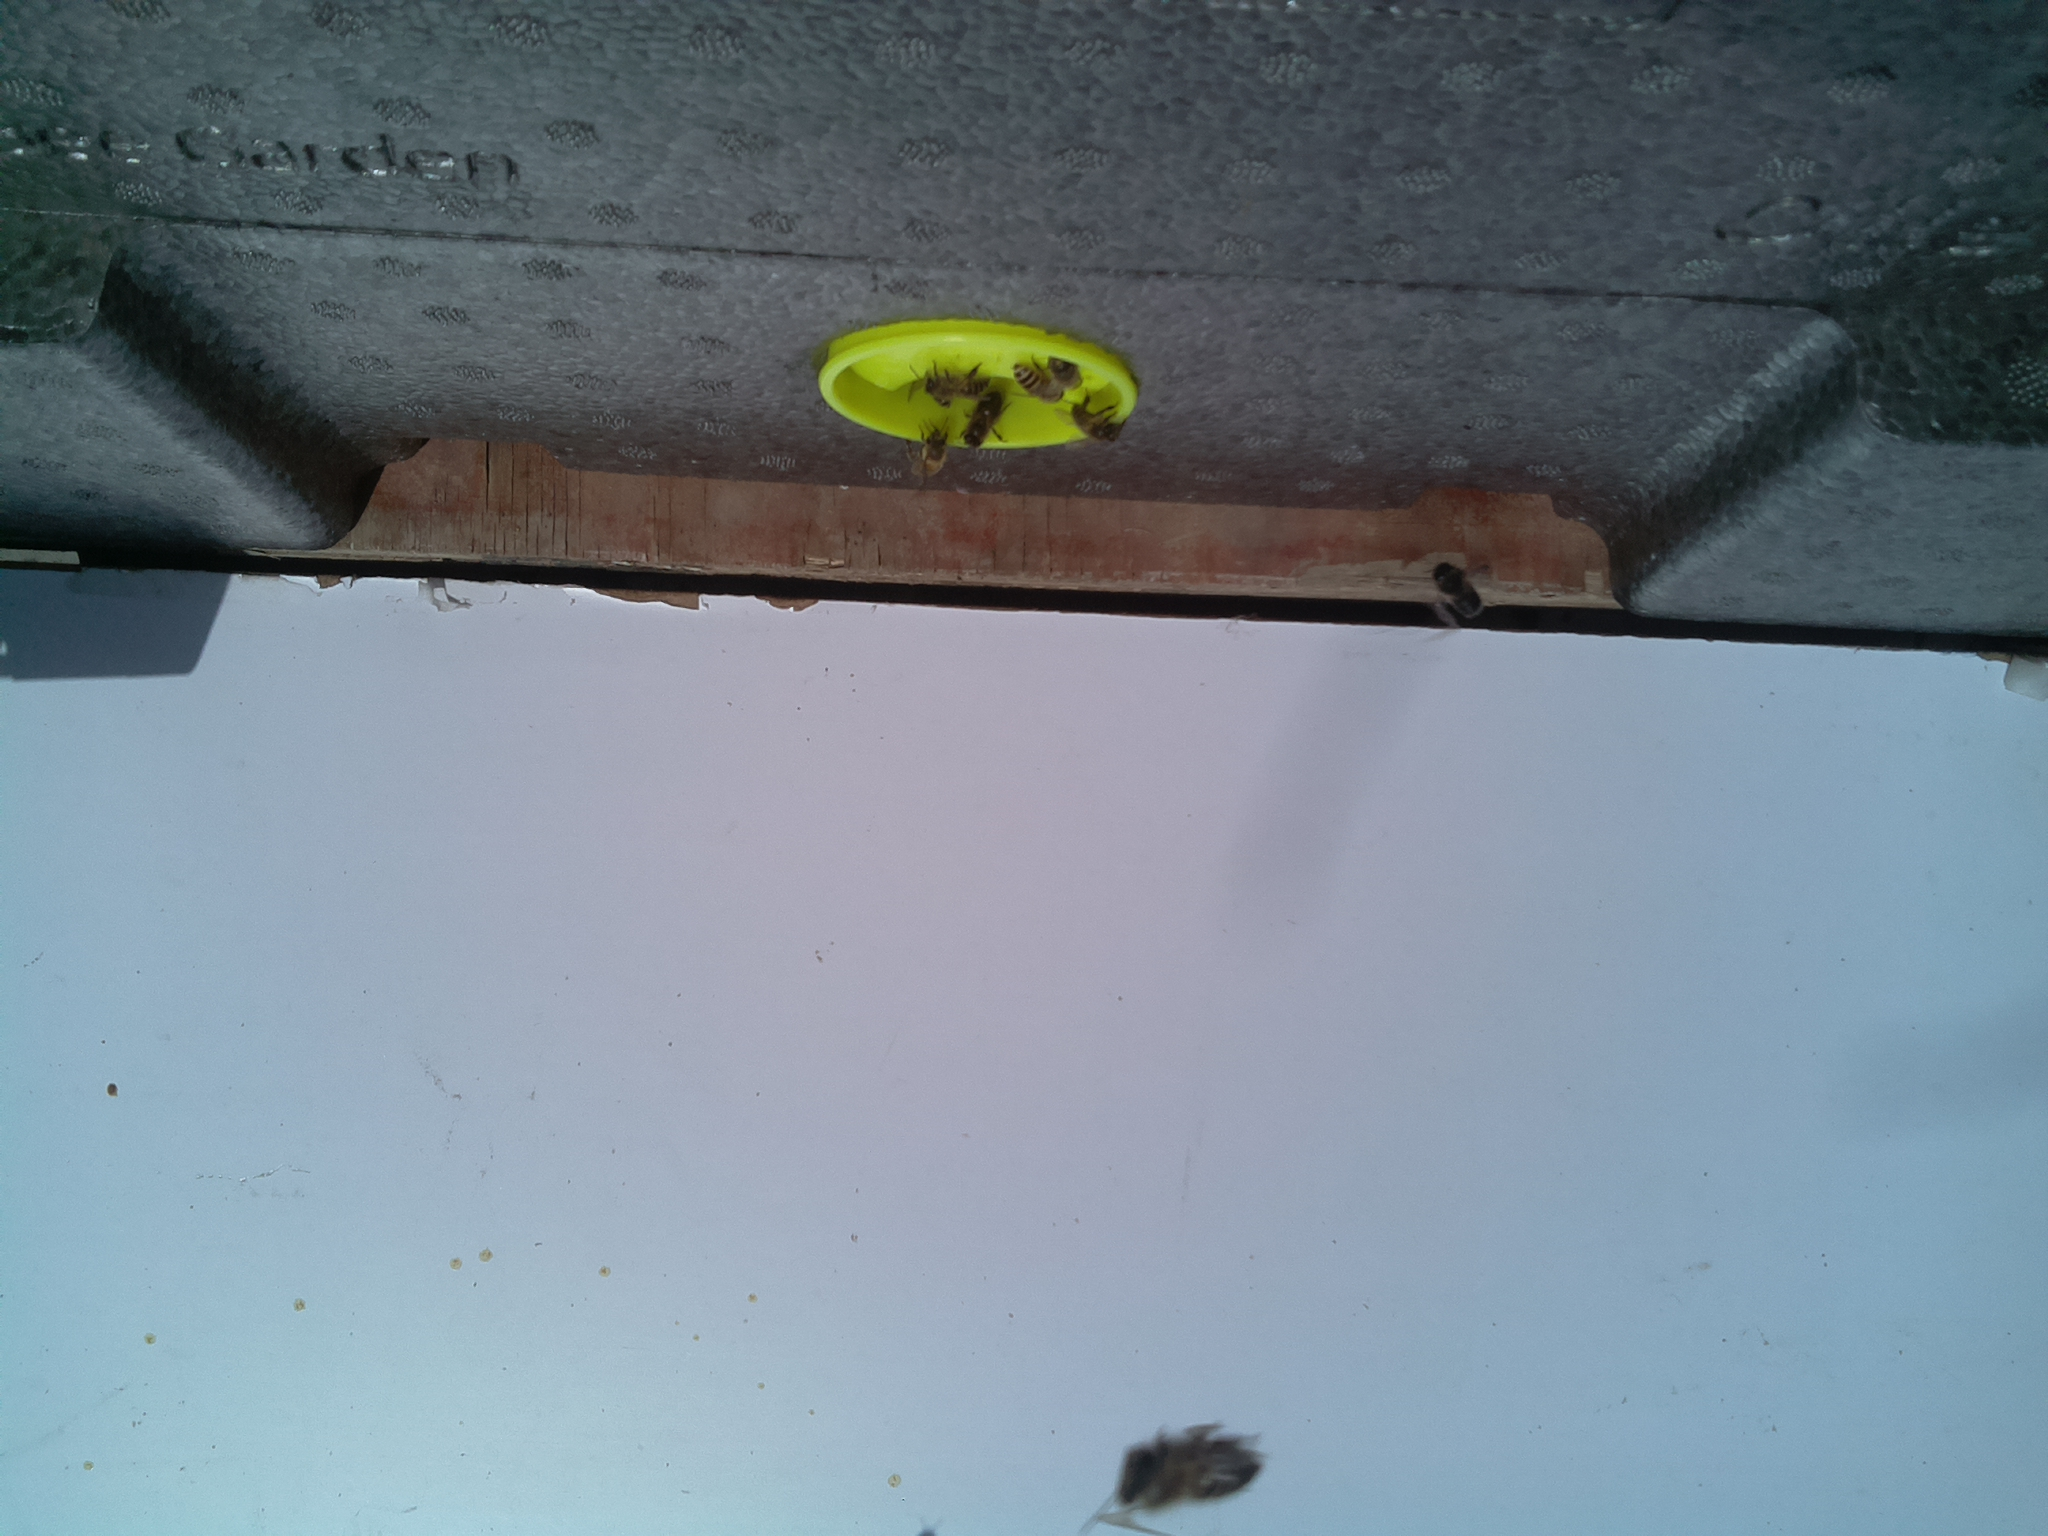bee: (904, 421, 951, 480), (1008, 360, 1063, 408), (1070, 398, 1123, 444)
